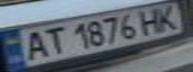1: (69, 20, 90, 50)
6: (118, 10, 142, 40)
7: (103, 14, 124, 44)
8: (84, 17, 106, 47)
A: (18, 28, 51, 61)
H: (133, 6, 166, 35)
K: (151, 3, 184, 32)
T: (39, 25, 69, 56)
